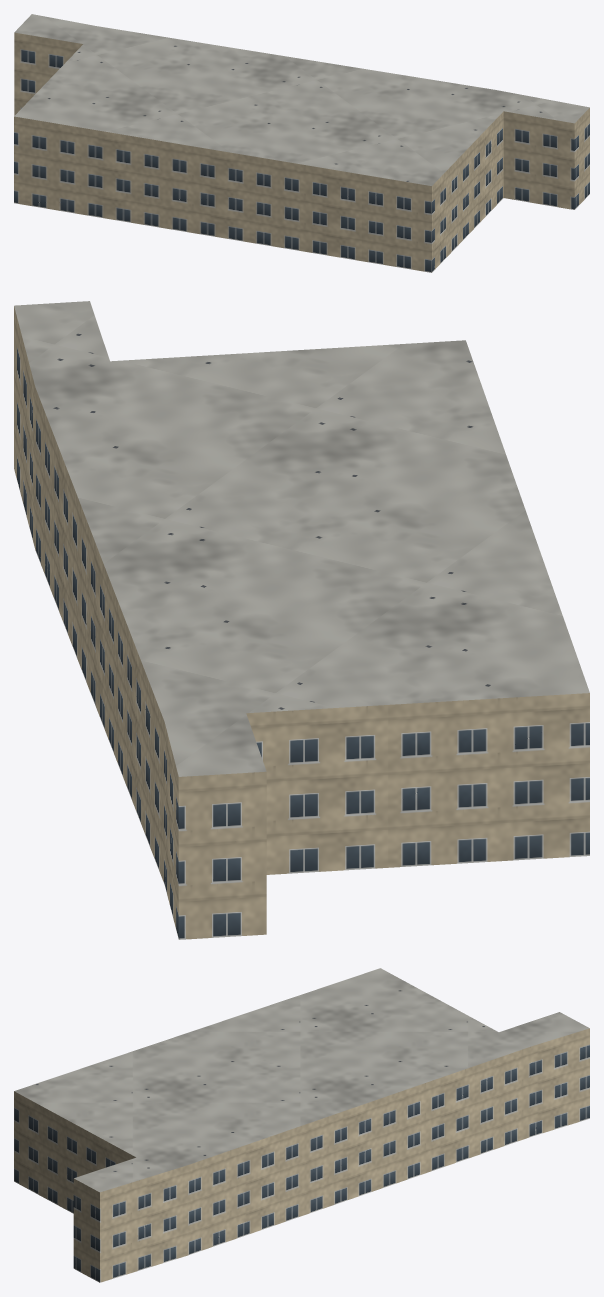
Rendered from ArahaTown_Block_W01024_N04096.gltf.
3 renders of one model, top to bottom at view 1: azimuth 30°, elevation 25°; view 2: azimuth 150°, elevation 25°; view 3: azimuth 270°, elevation 25°, orthographic. The views are drawn at different scales.
Parts seen in each view (by area): view 1: ArahaTown_Block_W01024_N04096; view 2: ArahaTown_Block_W01024_N04096; view 3: ArahaTown_Block_W01024_N04096.
Part boxes in pixels (x1,y1,x2,y2): ArahaTown_Block_W01024_N04096: [14, 14, 589, 272]; ArahaTown_Block_W01024_N04096: [14, 301, 589, 939]; ArahaTown_Block_W01024_N04096: [14, 968, 589, 1282].
Bounding box in the file's own units: 50.7 × 9.52 × 55.
2 materials, 2 textured.
